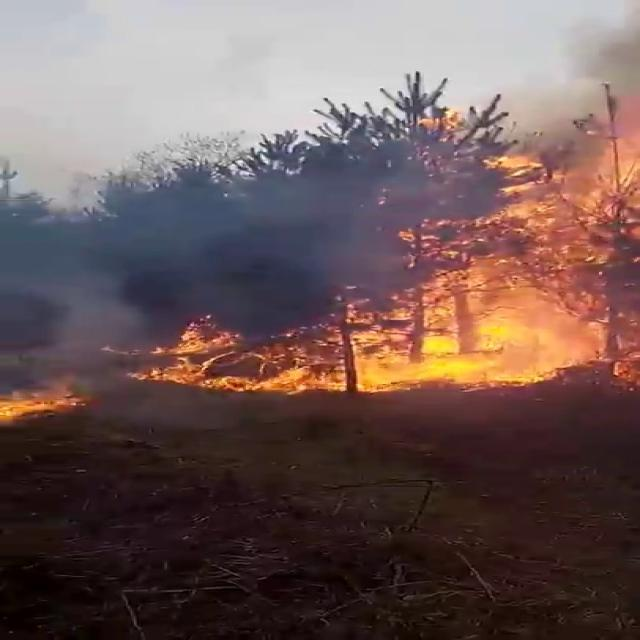Fire: (361, 101, 640, 397), (120, 280, 636, 400), (0, 377, 98, 427)
Smoke: (1, 80, 448, 350)
